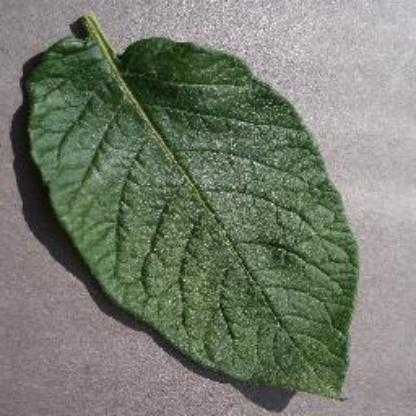Healthy-plant: (17, 6, 378, 402)
